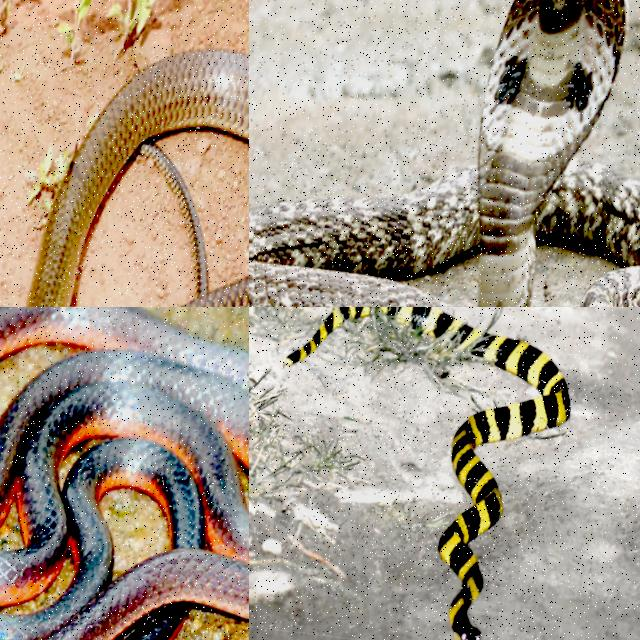Bungarus fasciatus: (284, 307, 570, 639)
Calliophis intestinalis: (0, 307, 248, 639)
Naja kaouthia: (27, 51, 248, 306)
Ophiophagus hannah: (249, 0, 639, 306)
